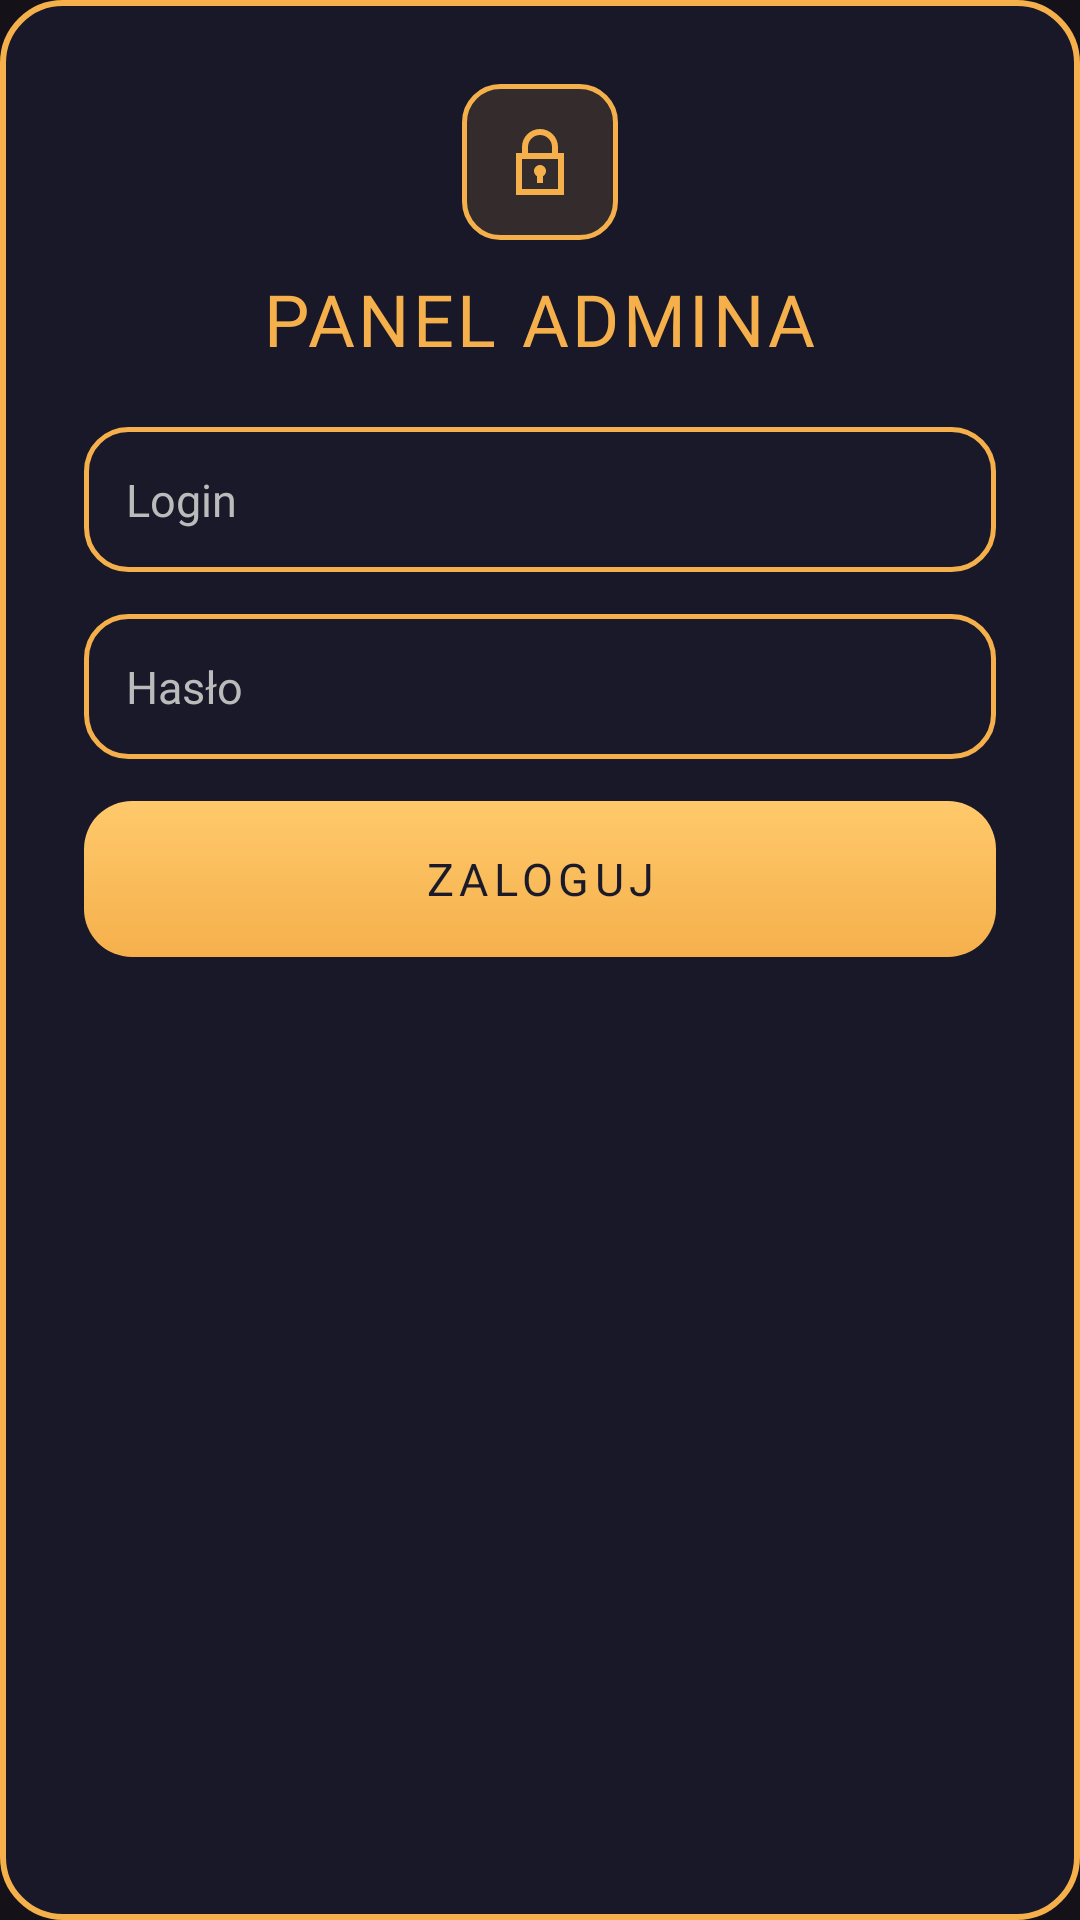

Point at icon controls on the screen. Image size 1080×1920, points as [x,y].
admin lock: [540,162]
